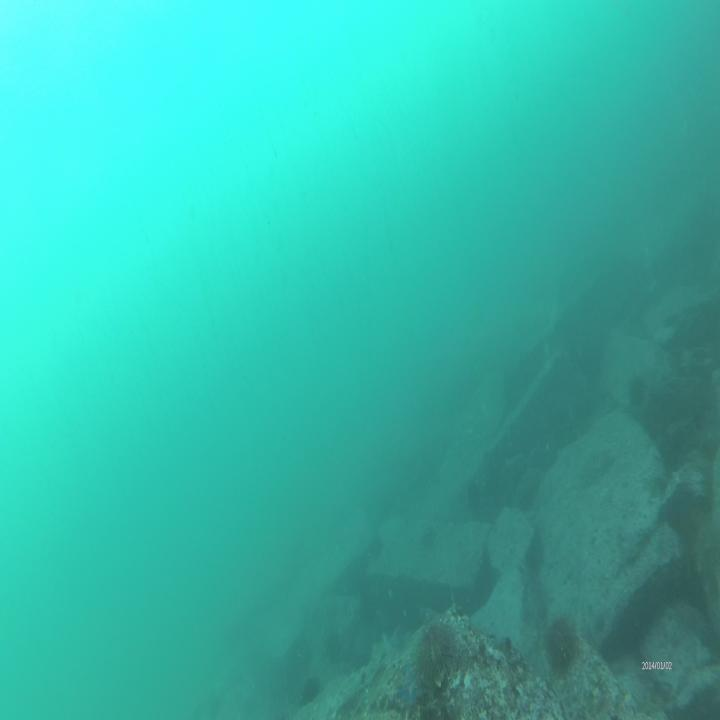echinus: (410, 619, 451, 675), (545, 612, 578, 668), (625, 374, 645, 409), (296, 676, 322, 701)
